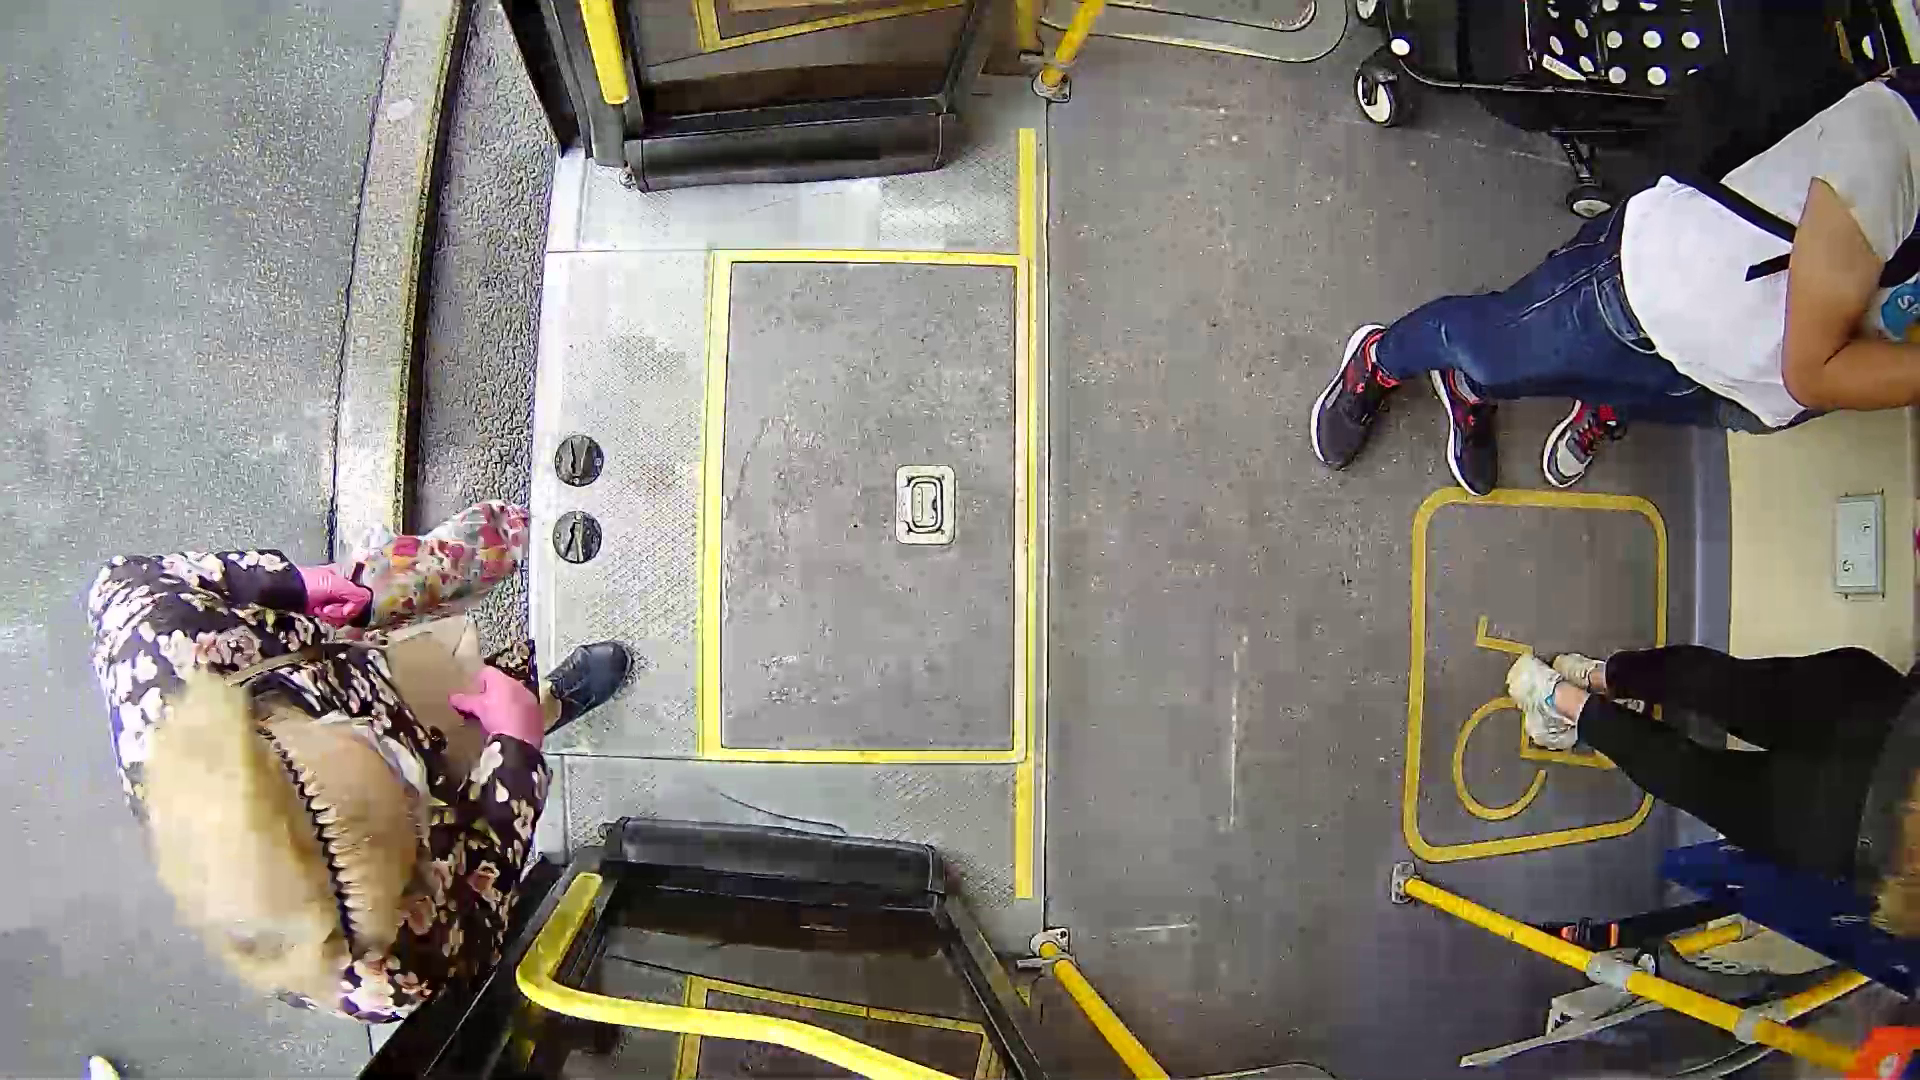person: (137, 433, 747, 1019)
